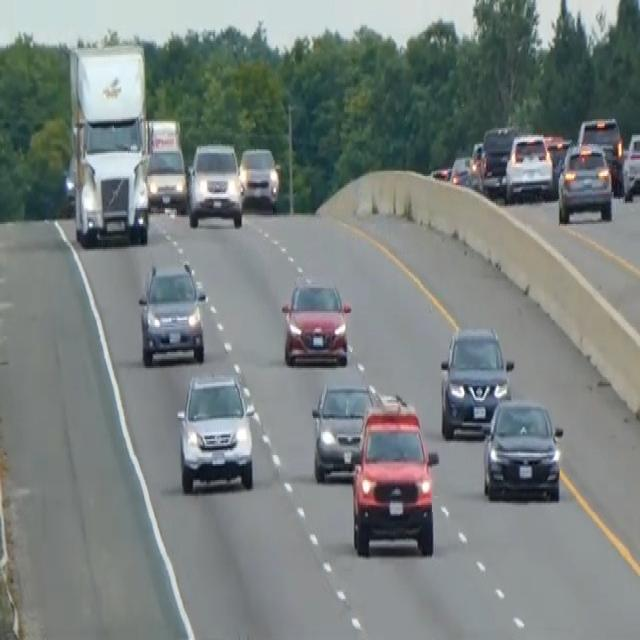car: (350, 404, 439, 556), (176, 370, 254, 494), (438, 324, 514, 439), (481, 395, 563, 501), (310, 378, 384, 482), (137, 258, 207, 366), (280, 274, 351, 368), (186, 140, 243, 228), (557, 140, 613, 224), (576, 114, 624, 192), (504, 130, 553, 201), (145, 142, 188, 214), (238, 144, 280, 212), (478, 122, 517, 194), (621, 130, 639, 201), (448, 153, 473, 187)
lorry: (66, 41, 151, 247)
